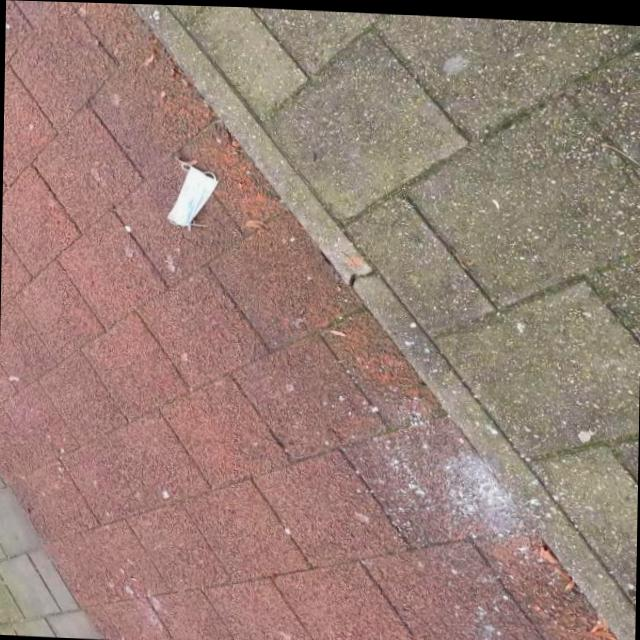Mask: (164, 159, 220, 232)
